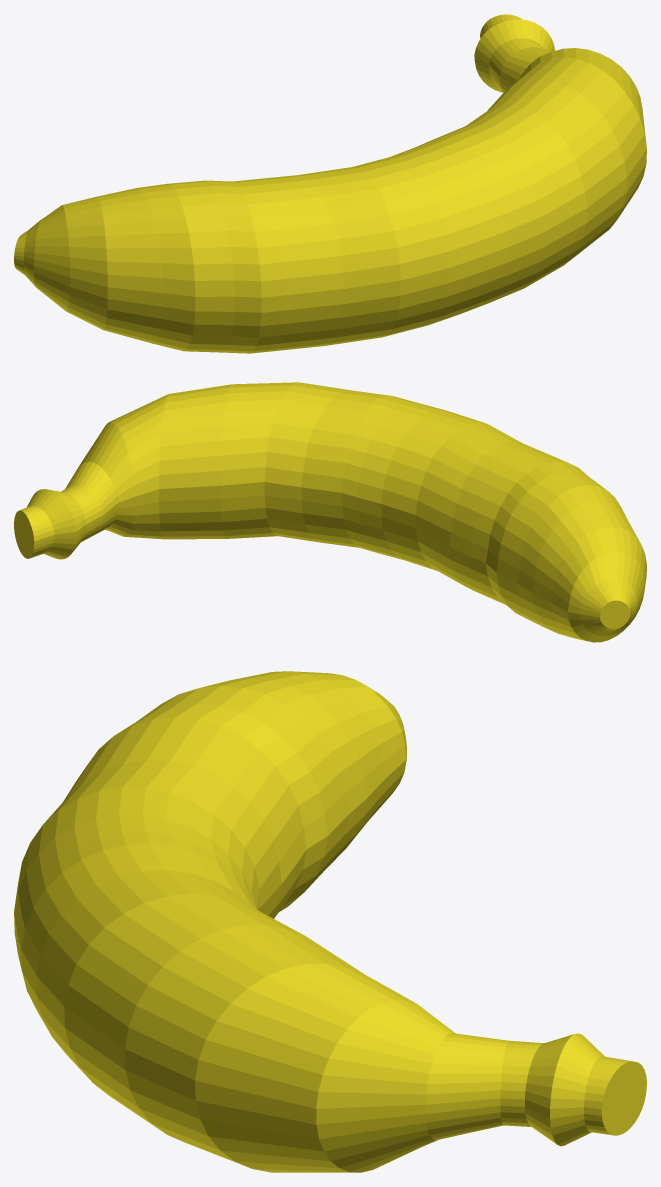
File: banana.fbx
3 views of the same model, one above another, from view 1: azimuth 30°, elevation 25°; view 2: azimuth 150°, elevation 25°; view 3: azimuth 270°, elevation 25° (orthographic). The views are drawn at different scales.
Parts seen in each view (by area): view 1: Cylinder; view 2: Cylinder; view 3: Cylinder.
Boxes of the visible parts, left/top/right/bottom form: Cylinder: left=14, top=14, right=646, bottom=353; Cylinder: left=14, top=382, right=646, bottom=642; Cylinder: left=14, top=671, right=646, bottom=1172.
Size of the model in its own units: 898 by 240 by 578.
